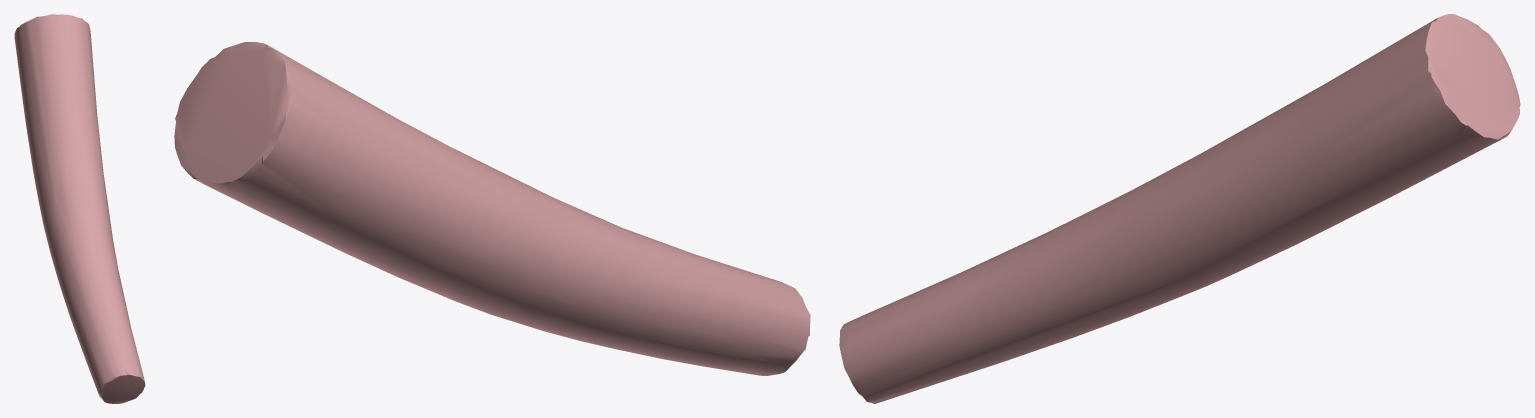
Rendered from fma68215_fj6530.glb.
3 views of the same model, side by side, from view 1: azimuth 30°, elevation 25°; view 2: azimuth 150°, elevation 25°; view 3: azimuth 270°, elevation 25° (orthographic). The views are drawn at different scales.
Parts seen in each view (by area): view 1: FMA68215_FJ6530; view 2: FMA68215_FJ6530; view 3: FMA68215_FJ6530.
Part boxes in pixels (x1,y1,x2,y2): FMA68215_FJ6530: [14, 14, 145, 403]; FMA68215_FJ6530: [174, 42, 810, 375]; FMA68215_FJ6530: [839, 14, 1520, 403].
Size of the model in its own units: 0.00912 by 0.0147 by 0.0197.
